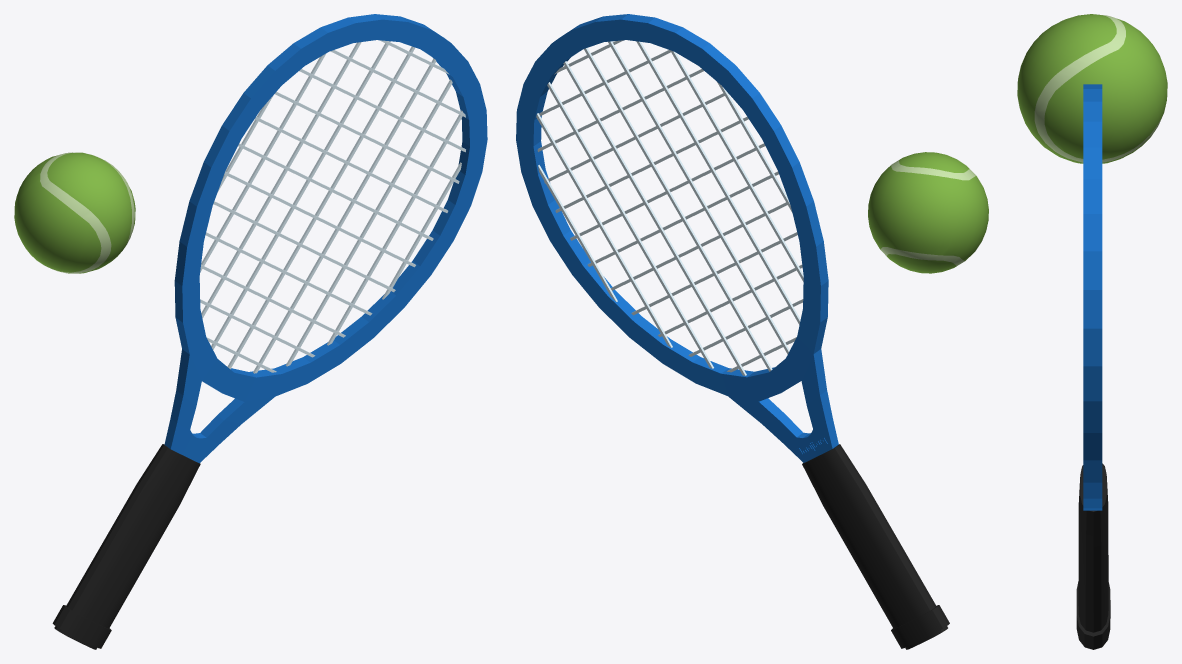
The model's file is tennis.fbx.
The picture shows the model from 3 angles, left to right: view 1: azimuth 30°, elevation 25°; view 2: azimuth 150°, elevation 25°; view 3: azimuth 270°, elevation 25°; orthographic projection. The views are drawn at different scales.
Parts seen in each view (by area): view 1: Cube.815; view 2: Cube.815; view 3: Cube.815.
Boxes of the visible parts, <box> form: Cube.815: <box>14,14,487,649</box>; Cube.815: <box>516,14,988,649</box>; Cube.815: <box>1017,14,1167,649</box>.
Size of the model in its own units: 201 by 236 by 45.89.
Materials: 1 (1 with a texture image).
